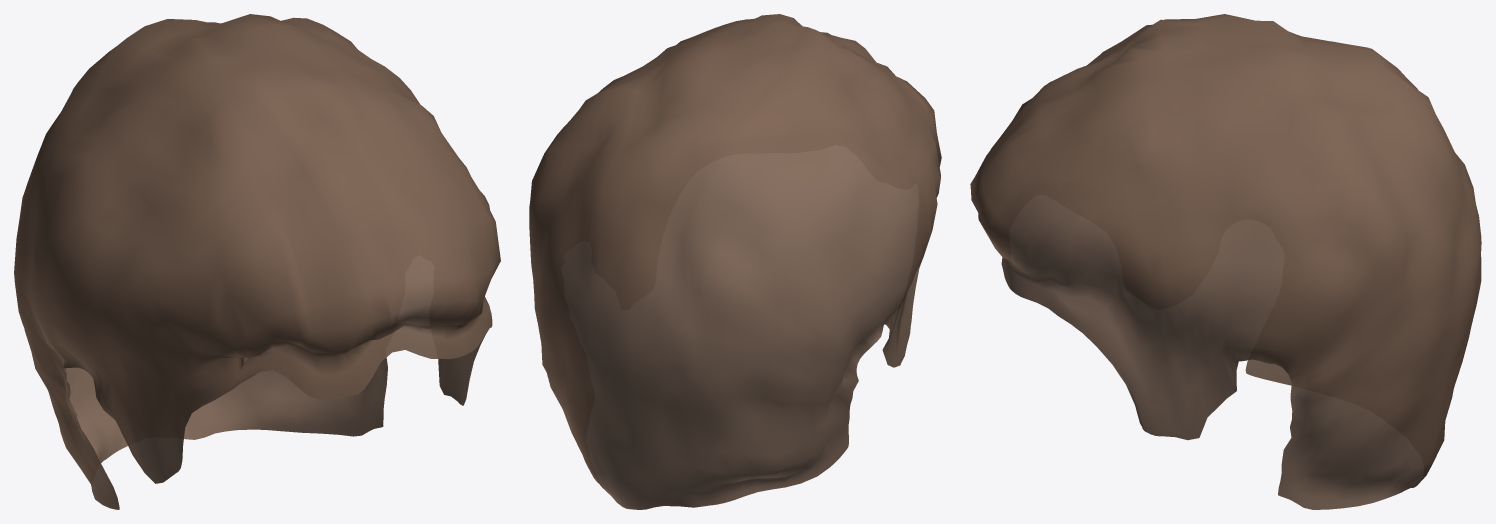
File: short02.glb
3 renders of one model, left to right at view 1: azimuth 30°, elevation 25°; view 2: azimuth 150°, elevation 25°; view 3: azimuth 270°, elevation 25°, orthographic. The views are drawn at different scales.
Visible parts, largest first — view 1: short02; view 2: short02; view 3: short02.
Boxes of the visible parts, x1,y1,x2,y2 form: short02: (14,14,500,509); short02: (529,14,941,509); short02: (970,14,1481,509).
Bounding box in the file's own units: 0.1694 × 0.1951 × 0.2105.
